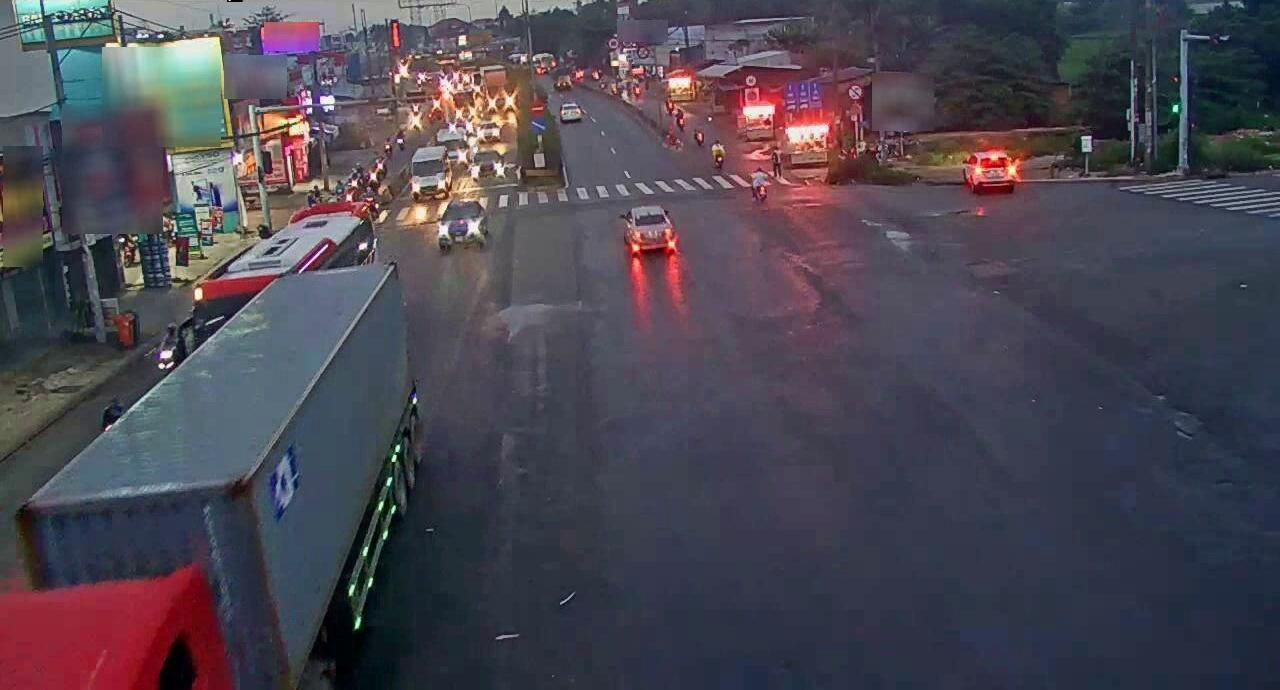xe container: (0, 255, 427, 690)
xe hoi: (623, 202, 678, 259), (437, 198, 485, 248)
